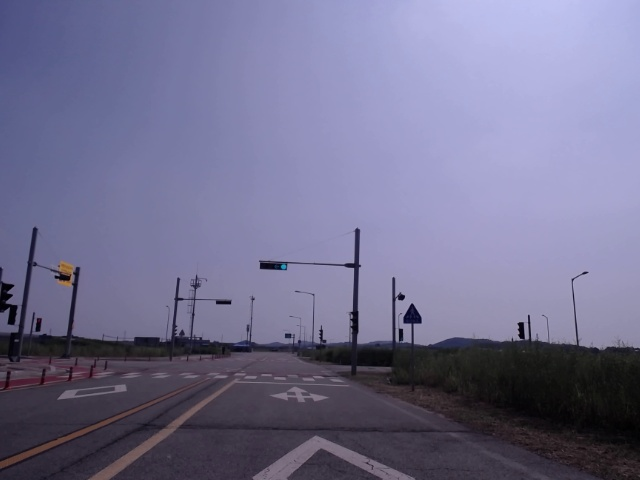straight_green_4: (260, 262, 288, 270)
